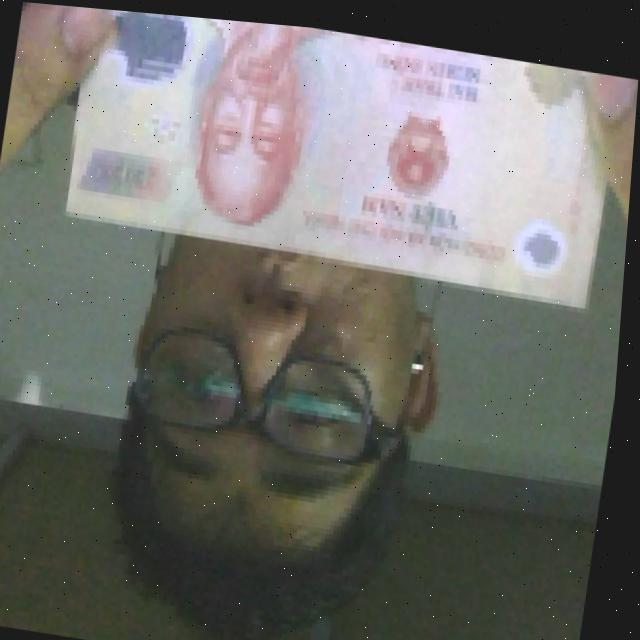200 000 VND: (48, 4, 633, 308)
